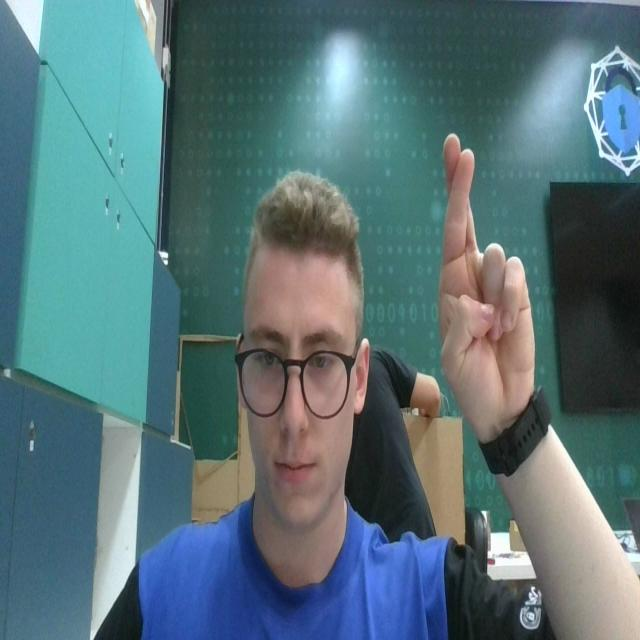R: (434, 130, 540, 437)
